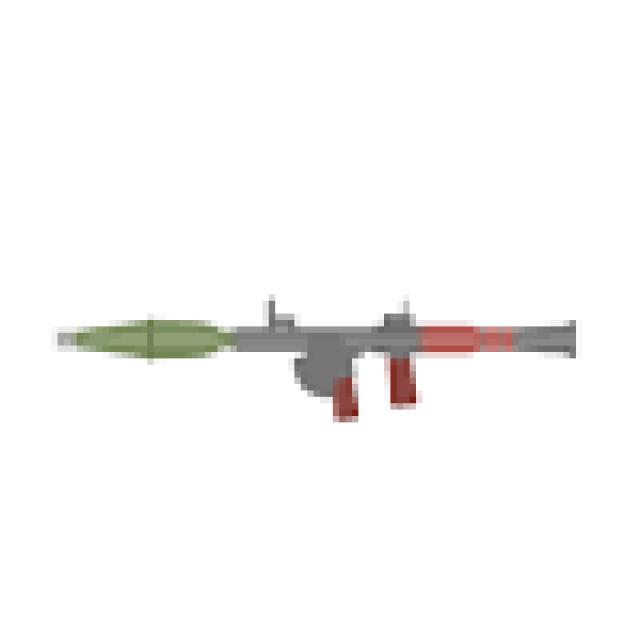bazooka: (32, 275, 600, 426)
